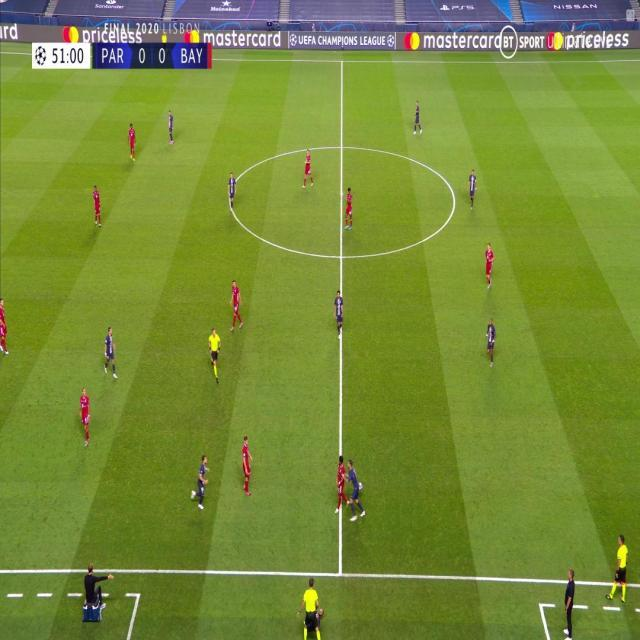ball: (358, 482, 364, 491)
player: (607, 533, 630, 605), (346, 459, 366, 521), (191, 454, 210, 510), (334, 454, 350, 515), (103, 326, 119, 378), (229, 278, 244, 332), (241, 434, 254, 496), (79, 387, 92, 447), (485, 317, 498, 367), (333, 288, 345, 339), (483, 241, 495, 289), (302, 147, 315, 188), (0, 295, 9, 354), (91, 184, 103, 228), (227, 170, 238, 214), (344, 186, 354, 231), (467, 168, 477, 211), (127, 122, 137, 161), (412, 99, 422, 135), (166, 109, 175, 146)
referee: (299, 579, 323, 640), (208, 327, 222, 383)
